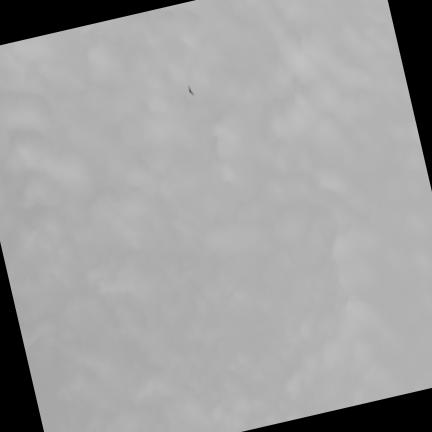Shahed: (188, 85, 193, 94)
